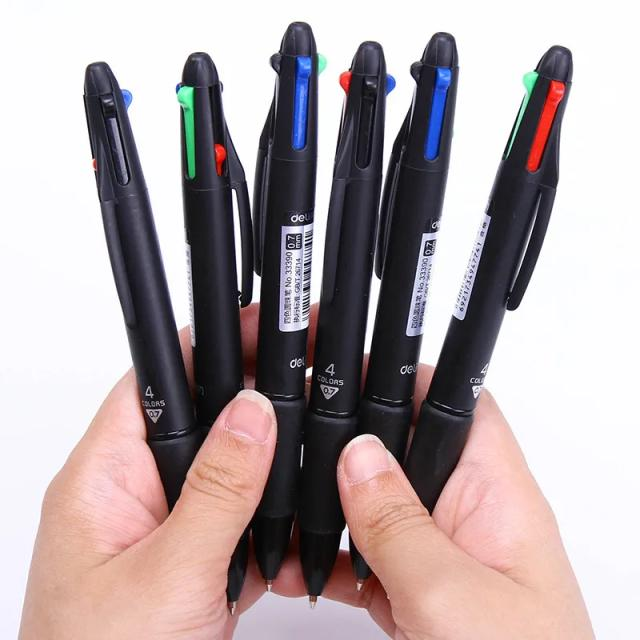pen: (80, 19, 578, 599)
